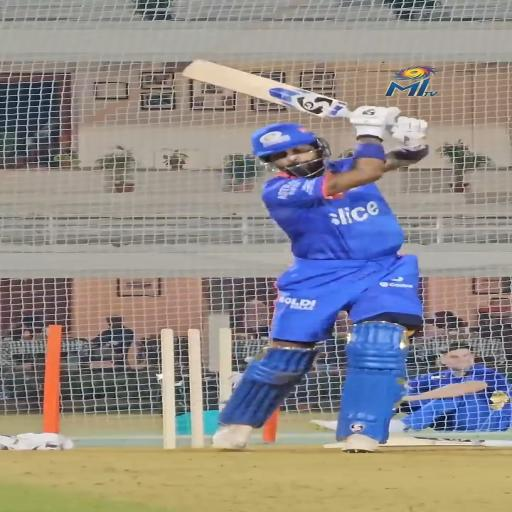Cricket bat: (183, 60, 350, 117)
